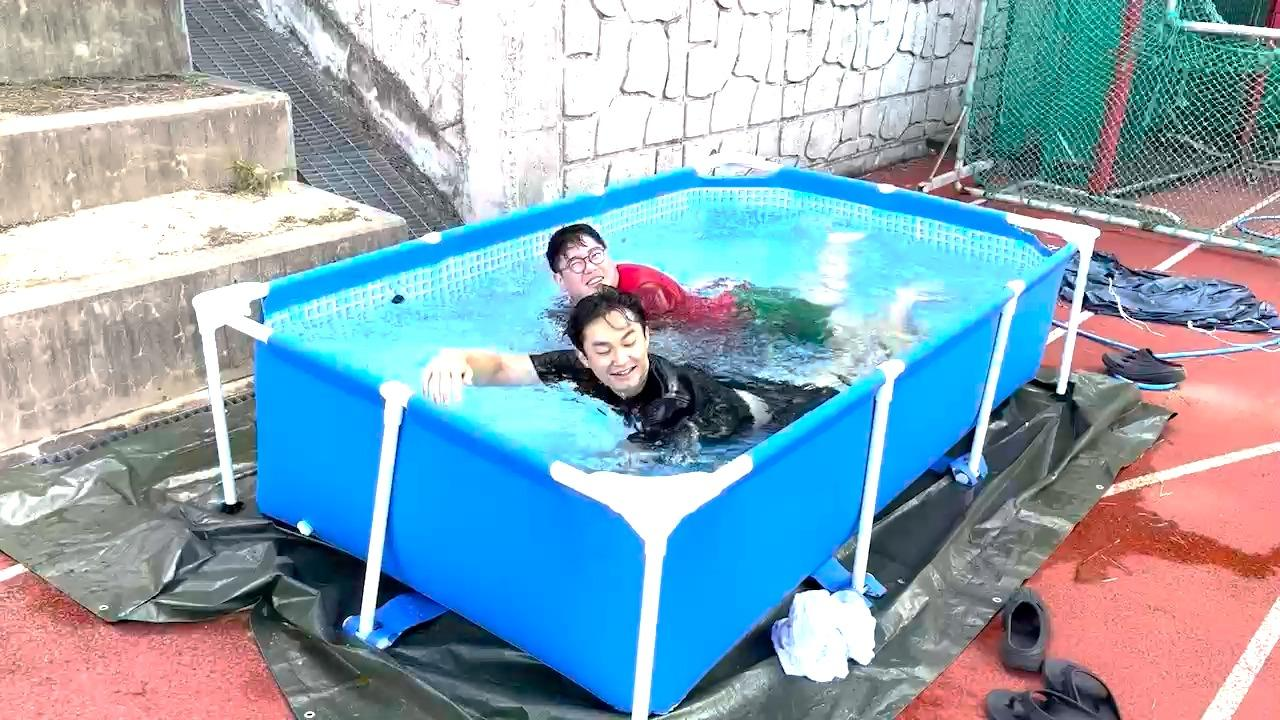Swimming: (486, 286, 874, 453), (515, 203, 902, 332)
